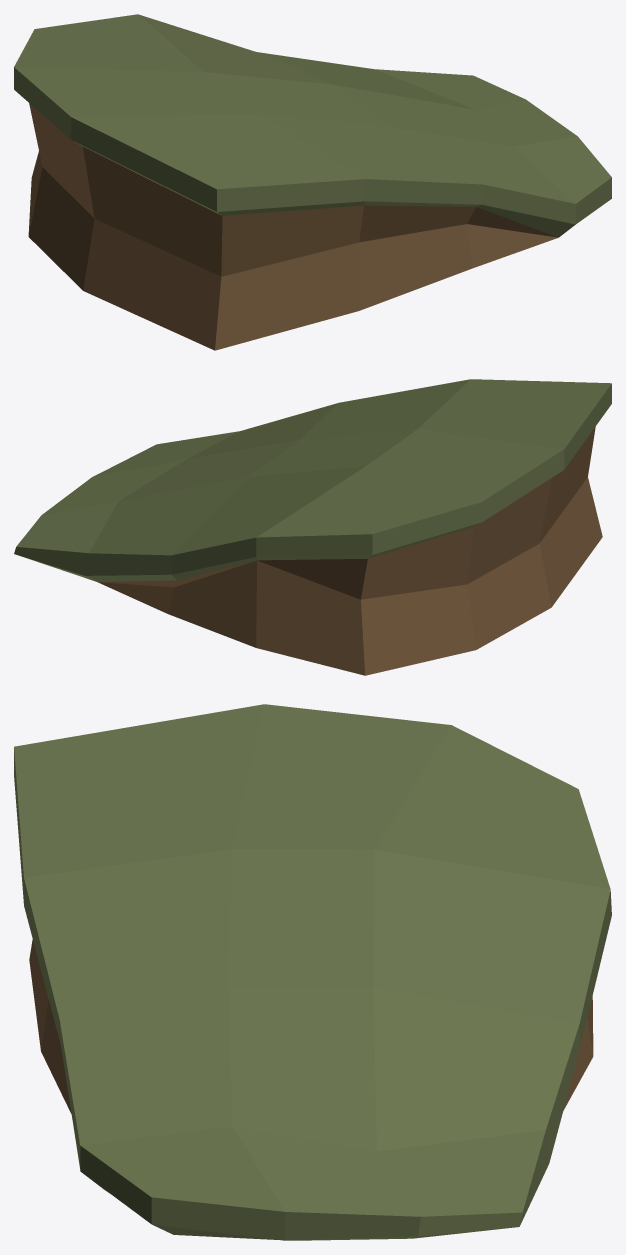
File: SM_Envr_Nature_Cliff_02.fbx
3 views of the same model, one above another, from view 1: azimuth 30°, elevation 25°; view 2: azimuth 150°, elevation 25°; view 3: azimuth 270°, elevation 25° (orthographic). The views are drawn at different scales.
Parts seen in each view (by area): view 1: SM_Envr_Nature_Cliff_02; view 2: SM_Envr_Nature_Cliff_02; view 3: SM_Envr_Nature_Cliff_02.
Part boxes in pixels (x1=…): SM_Envr_Nature_Cliff_02: x1=14, y1=14, x2=611, y2=350; SM_Envr_Nature_Cliff_02: x1=14, y1=379, x2=611, y2=675; SM_Envr_Nature_Cliff_02: x1=14, y1=704, x2=611, y2=1240.
Bounding box in the file's own units: 348 × 114 × 276.
